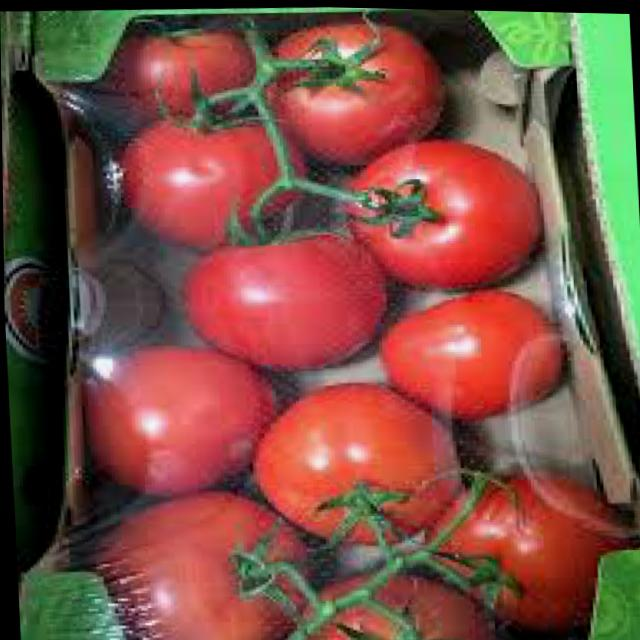tomato: (247, 378, 463, 551), (88, 483, 325, 640), (436, 464, 640, 632), (341, 131, 546, 295), (80, 342, 282, 502), (181, 229, 391, 375), (257, 17, 448, 166), (372, 285, 565, 425), (119, 115, 287, 256), (99, 19, 258, 123), (300, 570, 503, 640)
